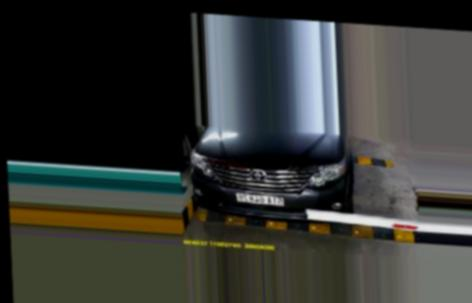License_Plate: (235, 190, 285, 208)
